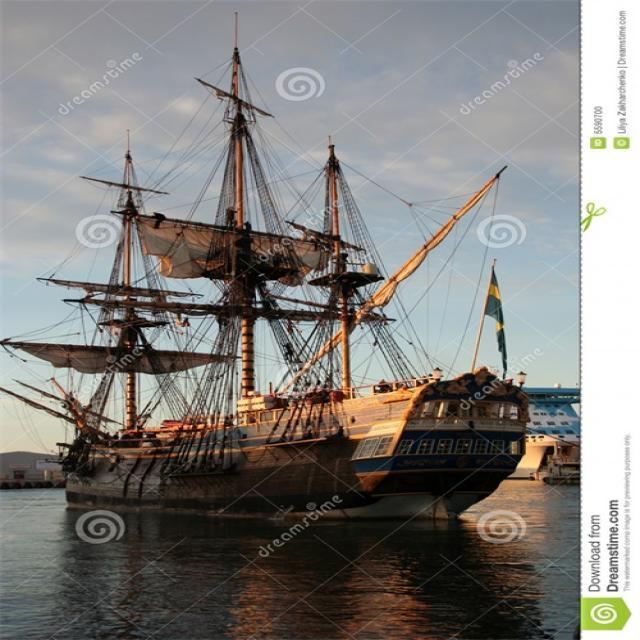Ship: (11, 41, 539, 526)
